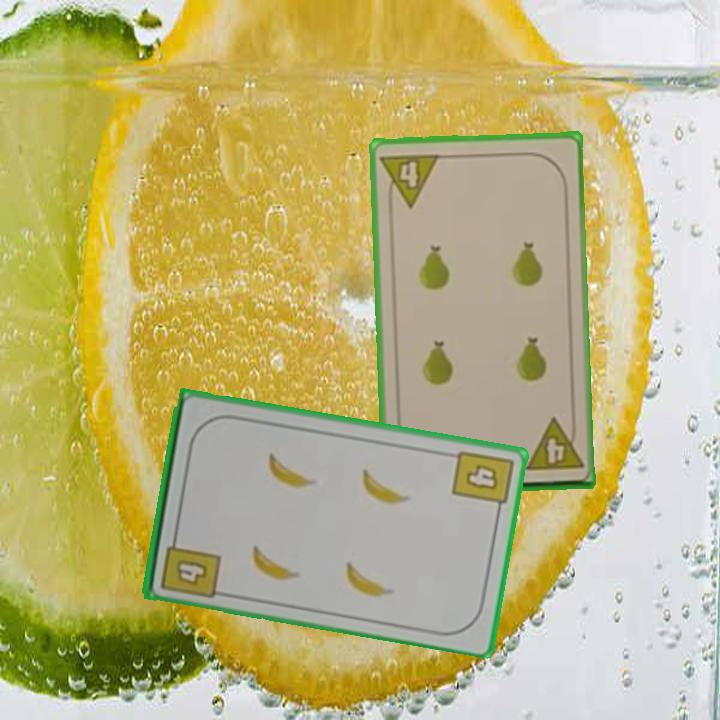4b: (448, 446, 516, 517), (157, 529, 223, 601)
4p: (377, 150, 442, 211), (521, 415, 586, 474)
